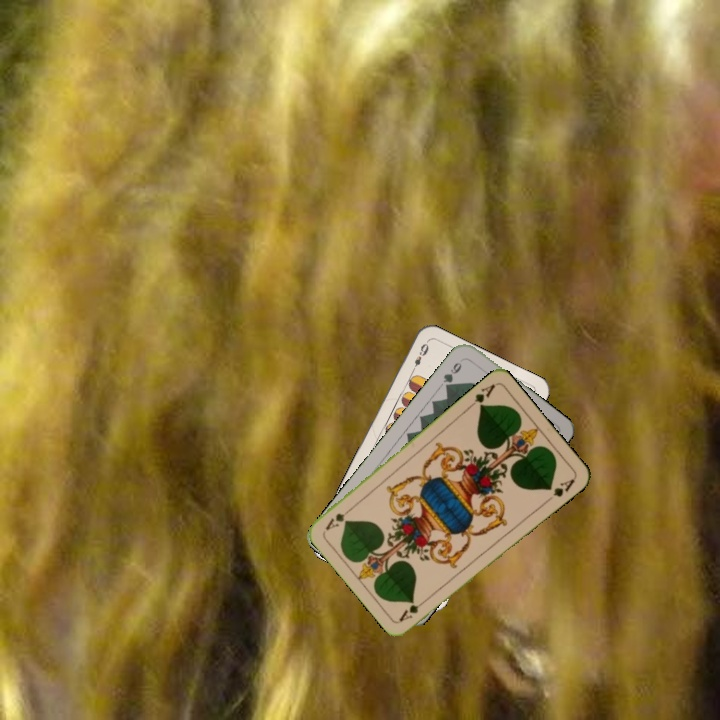E9: (407, 338, 431, 376)
G9: (439, 355, 466, 392)
GA: (395, 594, 431, 624), (464, 380, 498, 411)
